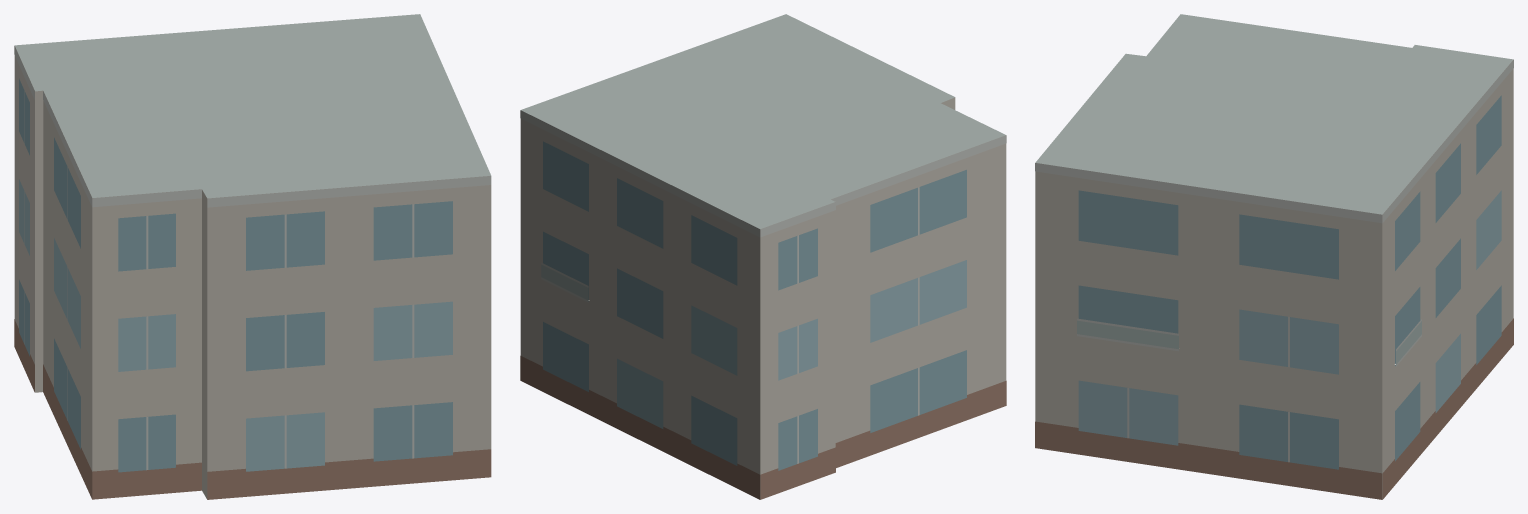
The model's file is survey-upis-32740636.glb.
3 views of the same model, side by side, from view 1: azimuth 30°, elevation 25°; view 2: azimuth 150°, elevation 25°; view 3: azimuth 270°, elevation 25° (orthographic). The views are drawn at different scales.
Visible parts, largest first — view 1: survey-upis-32740636.tmp; view 2: survey-upis-32740636.tmp; view 3: survey-upis-32740636.tmp.
Boxes of the visible parts, x1,y1,x2,y2 form: survey-upis-32740636.tmp: (14, 14, 491, 499); survey-upis-32740636.tmp: (520, 14, 1006, 499); survey-upis-32740636.tmp: (1035, 14, 1513, 499).
Bounding box in the file's own units: 12.08 × 8 × 12.18.
